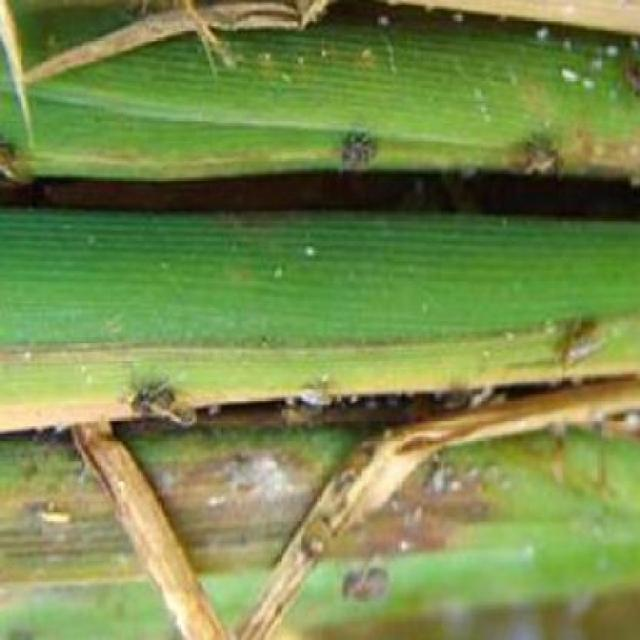brown-planthopper: (132, 383, 197, 426), (561, 315, 608, 368), (344, 564, 388, 604), (340, 132, 382, 170), (523, 143, 562, 171), (297, 390, 334, 412)
